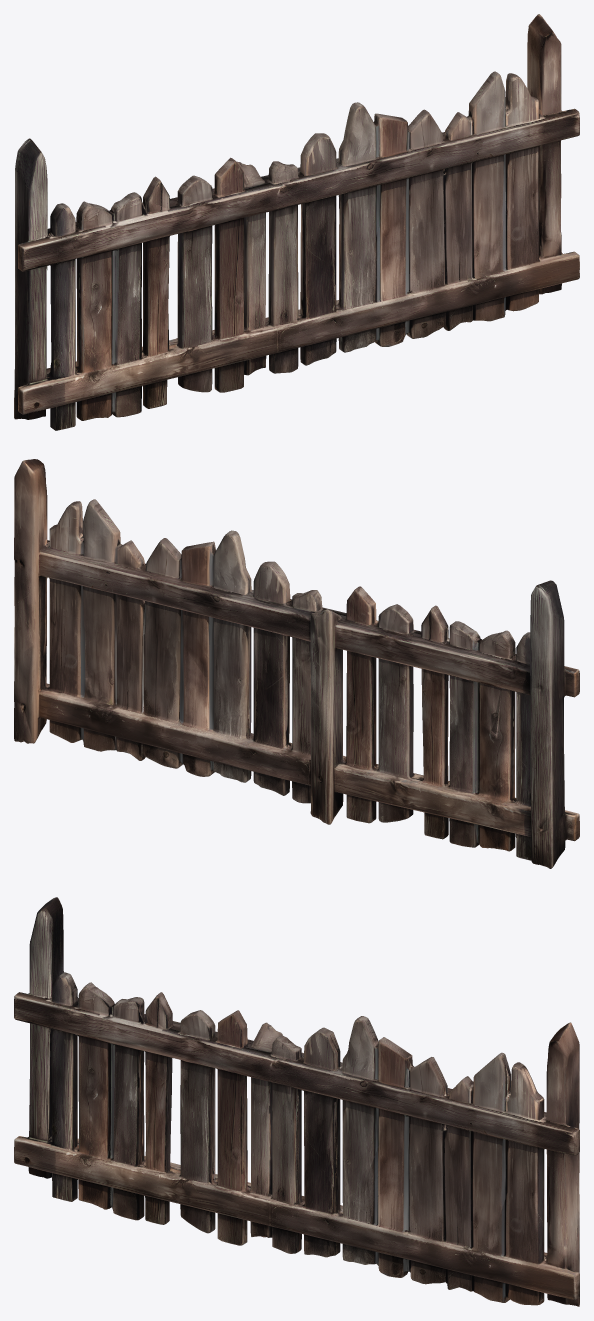
File: Zaun_HolzPlankenRusti.glb
3 renders of one model, top to bottom at view 1: azimuth 30°, elevation 25°; view 2: azimuth 150°, elevation 25°; view 3: azimuth 330°, elevation 25°, orthographic.
Parts seen in each view (by area): view 1: Mesh_0; view 2: Mesh_0; view 3: Mesh_0.
Boxes of the visible parts, bbox=[...] form: Mesh_0: bbox=[14, 14, 579, 430]; Mesh_0: bbox=[14, 459, 579, 868]; Mesh_0: bbox=[14, 897, 579, 1306].
Size of the model in its own units: 1.91 by 0.9415 by 0.1163.
Materials: 1 (1 with a texture image).
